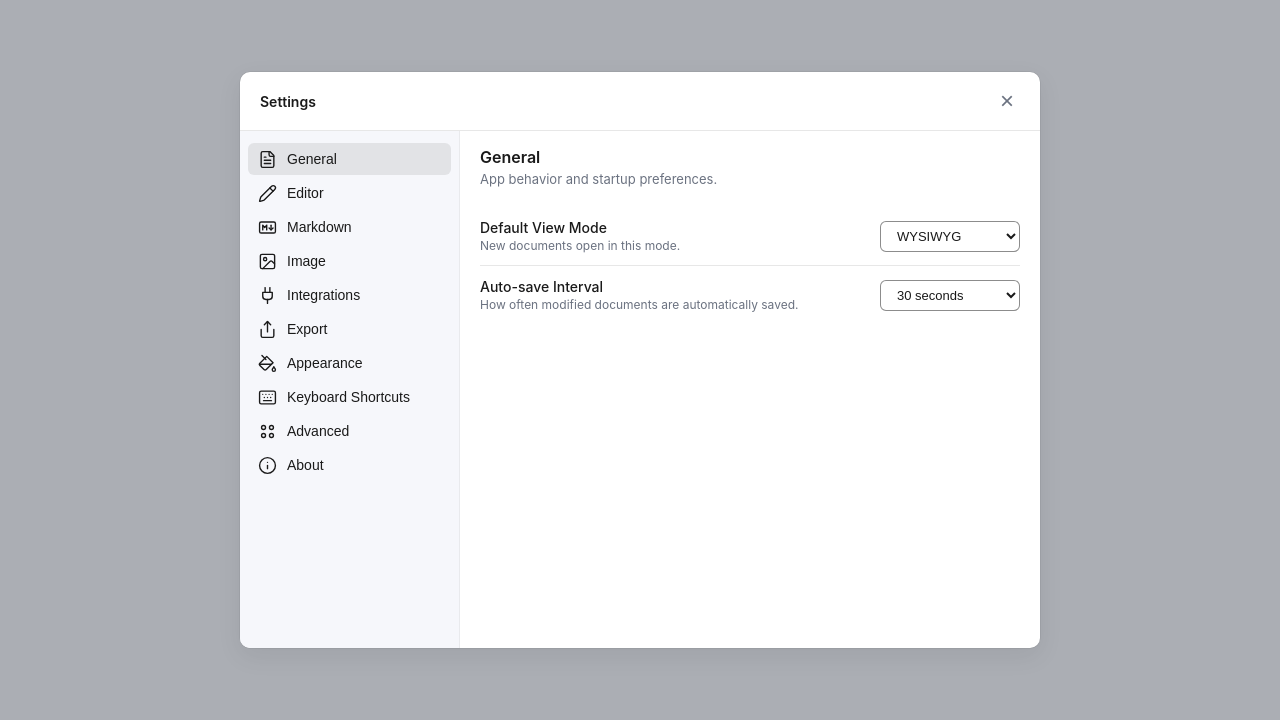
T-4b a later successful toggle clears an earlier refusal › T-4b(b) persist_failed then ok: one toast in total, and the badge alone after the second click
Click the button "Integrations" at {"x": 350, "y": 295}, box [248,279,451,311]
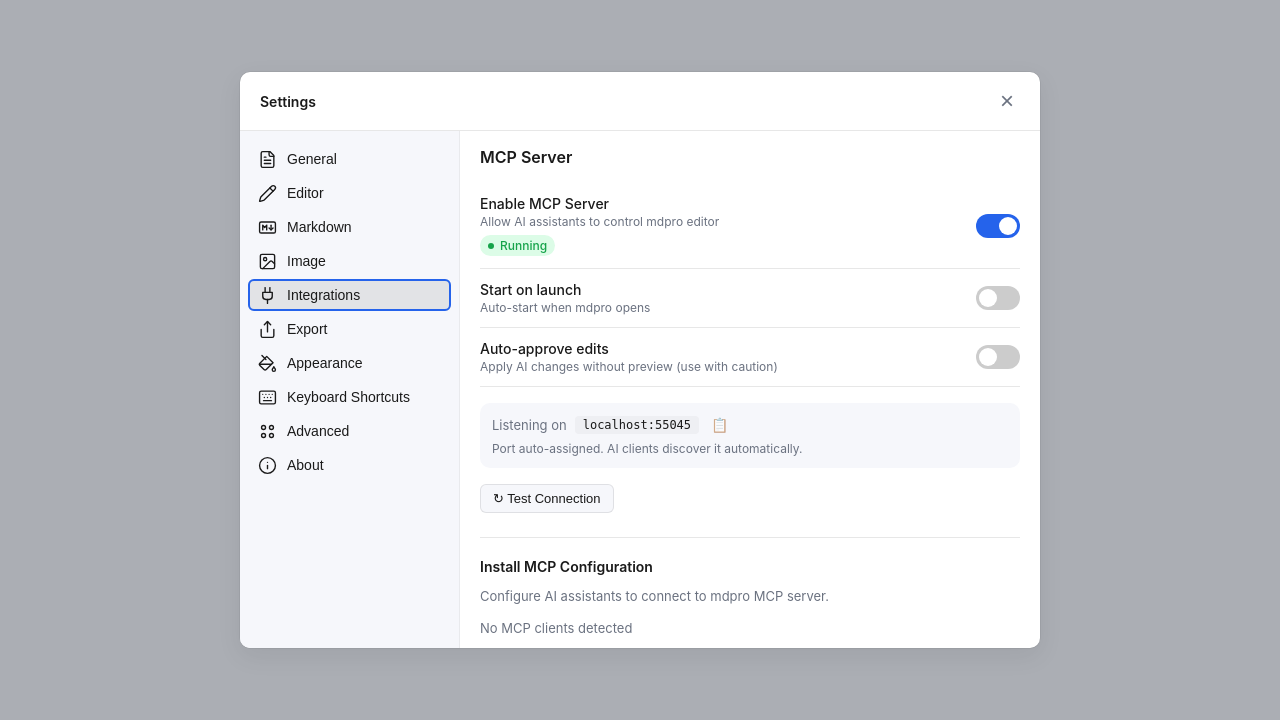
Now the switch labelled "Enable MCP Server" is enabled
Now the message "Running" is shown, box [480,235,555,256]
Click the switch labelled "Enable MCP Server" at {"x": 998, "y": 226}, box [976,214,1020,238]
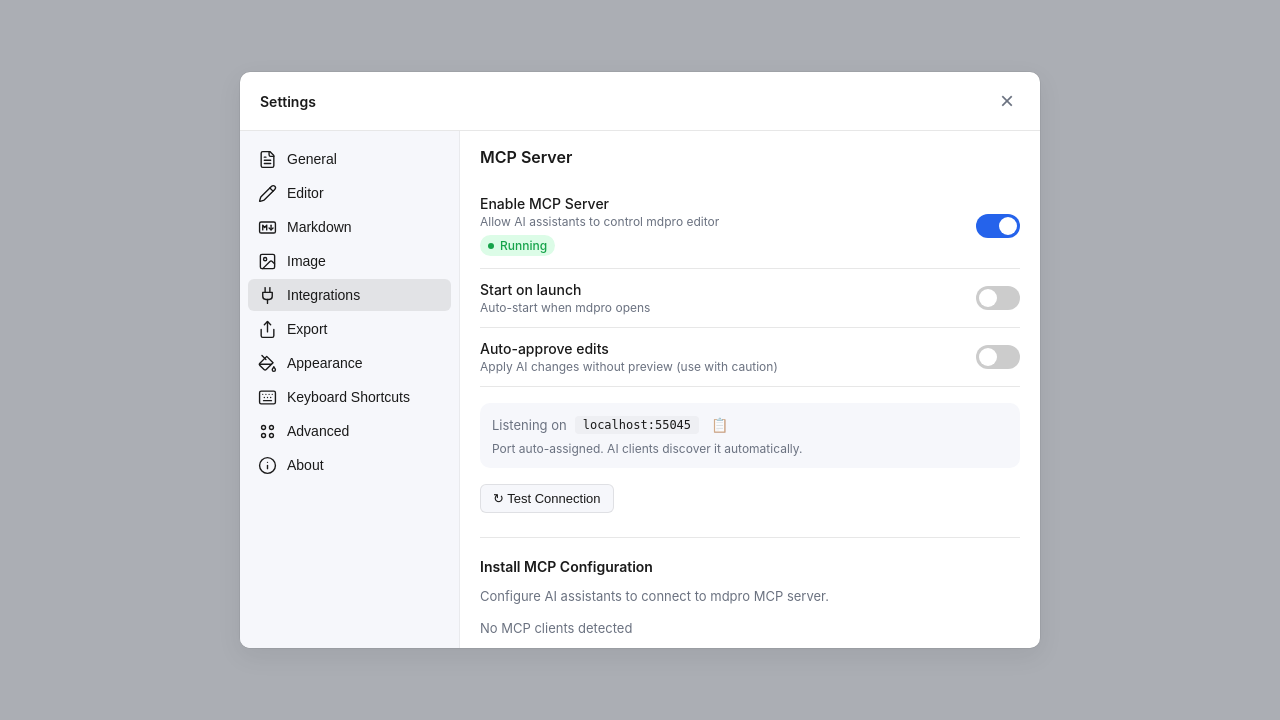
Now the switch labelled "Enable MCP Server" is checked
Now the switch labelled "Enable MCP Server" is enabled
Click the switch labelled "Enable MCP Server" at {"x": 998, "y": 226}, box [976,214,1020,238]
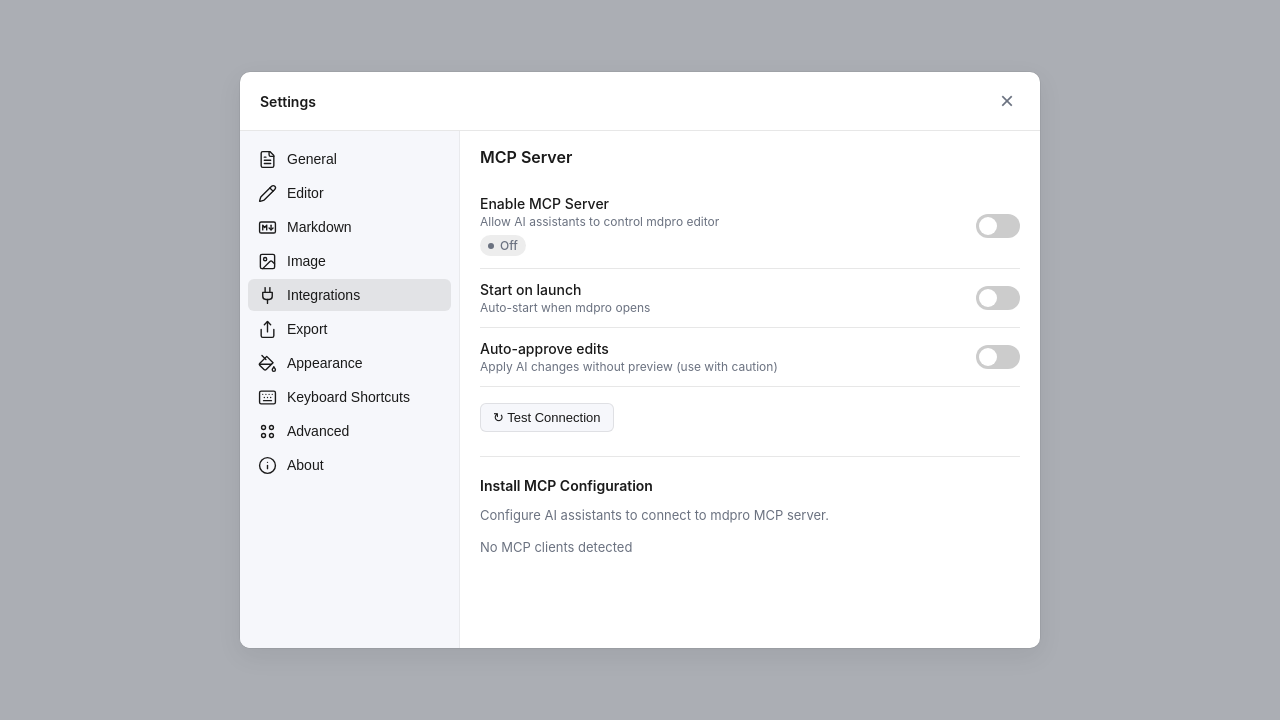
Now the switch labelled "Enable MCP Server" is not checked, box [976,214,1020,238]
Now the switch labelled "Enable MCP Server" is enabled, box [976,214,1020,238]
Now the message reads "Off", box [500,238,518,253]
